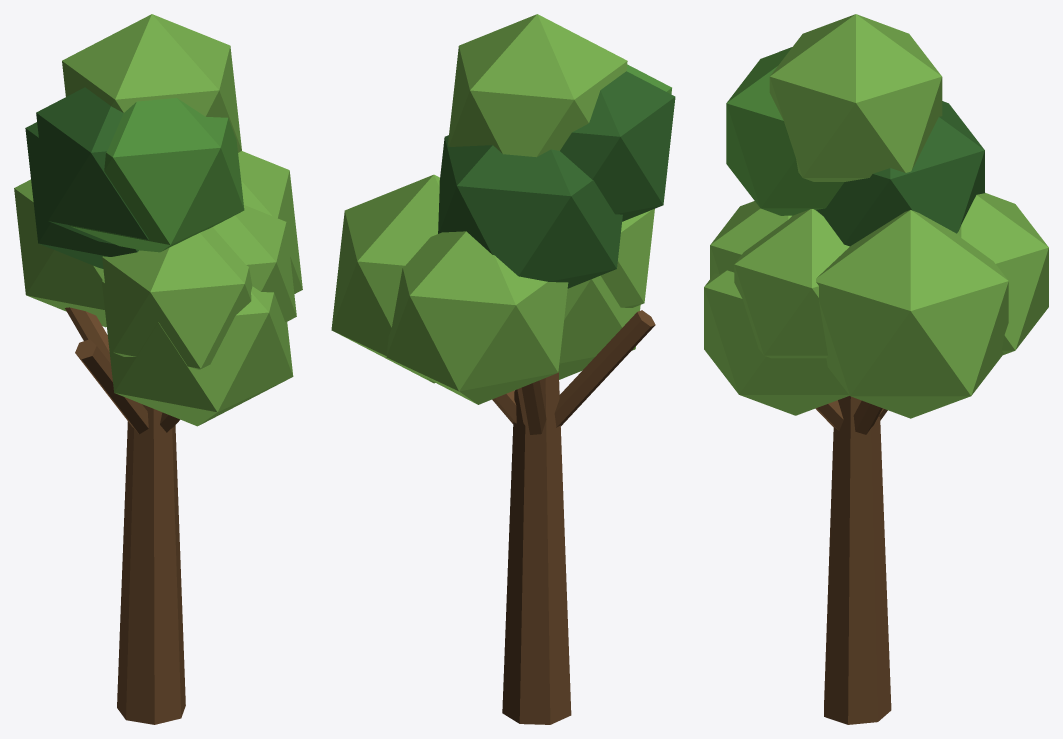
The model's file is arbre_prairie_1.glb.
3 views of the same model, side by side, from view 1: azimuth 30°, elevation 25°; view 2: azimuth 150°, elevation 25°; view 3: azimuth 270°, elevation 25° (orthographic).
Parts seen in each view (by area): view 1: feuillage_feuille_claire.006, tronc.012, feuillage_feuille.012, feuillage_feuille_sombre.012, branches_ecorce.006; view 2: feuillage_feuille_claire.006, feuillage_feuille_sombre.012, tronc.012, branches_ecorce.006; view 3: feuillage_feuille_claire.006, tronc.012, feuillage_feuille_sombre.012, feuillage_feuille.012, branches_ecorce.006.
Boxes of the visible parts, box(x1,y1,x2,y2) form: feuillage_feuille_claire.006: box(14, 14, 302, 426); tronc.012: box(117, 404, 185, 724); feuillage_feuille.012: box(69, 98, 244, 252); feuillage_feuille_sombre.012: box(25, 87, 148, 268); branches_ecorce.006: box(65, 307, 180, 434); feuillage_feuille_claire.006: box(331, 14, 654, 404); feuillage_feuille_sombre.012: box(438, 71, 675, 288); tronc.012: box(502, 371, 571, 724); branches_ecorce.006: box(492, 310, 655, 434); feuillage_feuille_claire.006: box(704, 14, 1048, 418); tronc.012: box(824, 396, 891, 724); feuillage_feuille_sombre.012: box(779, 47, 984, 246); feuillage_feuille.012: box(726, 47, 844, 215); branches_ecorce.006: box(815, 400, 887, 434).
Bounding box in the file's own units: 1.92 × 4.55 × 2.04.
